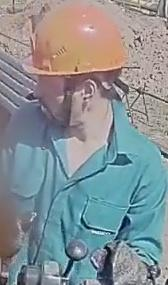gloves: (90, 238, 154, 285)
helmet: (19, 0, 130, 86)
vest: (2, 96, 167, 284)
